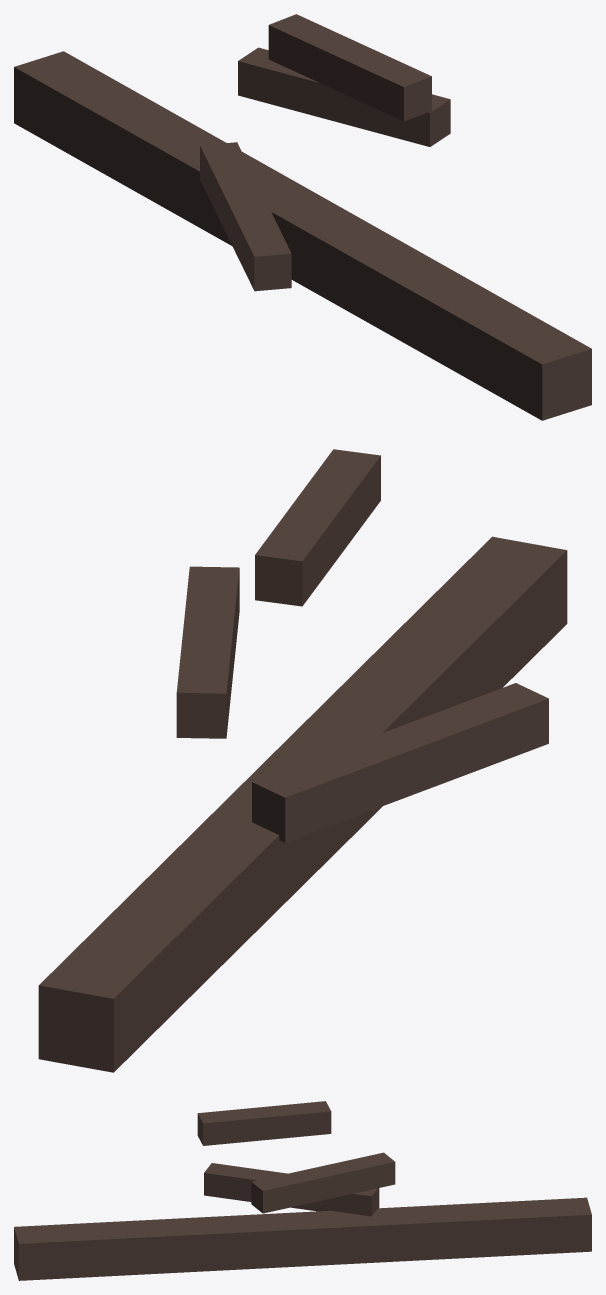
File: EXTW_WestTree_01.glb
3 views of the same model, one above another, from view 1: azimuth 30°, elevation 25°; view 2: azimuth 150°, elevation 25°; view 3: azimuth 270°, elevation 25° (orthographic). The views are drawn at different scales.
Visible parts, largest first — view 1: EXTW_WestTree_01; view 2: EXTW_WestTree_01; view 3: EXTW_WestTree_01.
Boxes of the visible parts, x1,y1,x2,y2 form: EXTW_WestTree_01: (14,14,591,420); EXTW_WestTree_01: (38,449,567,1072); EXTW_WestTree_01: (14,1101,591,1280).
Size of the model in its own units: 0.7861 by 0.737 by 2.55.
